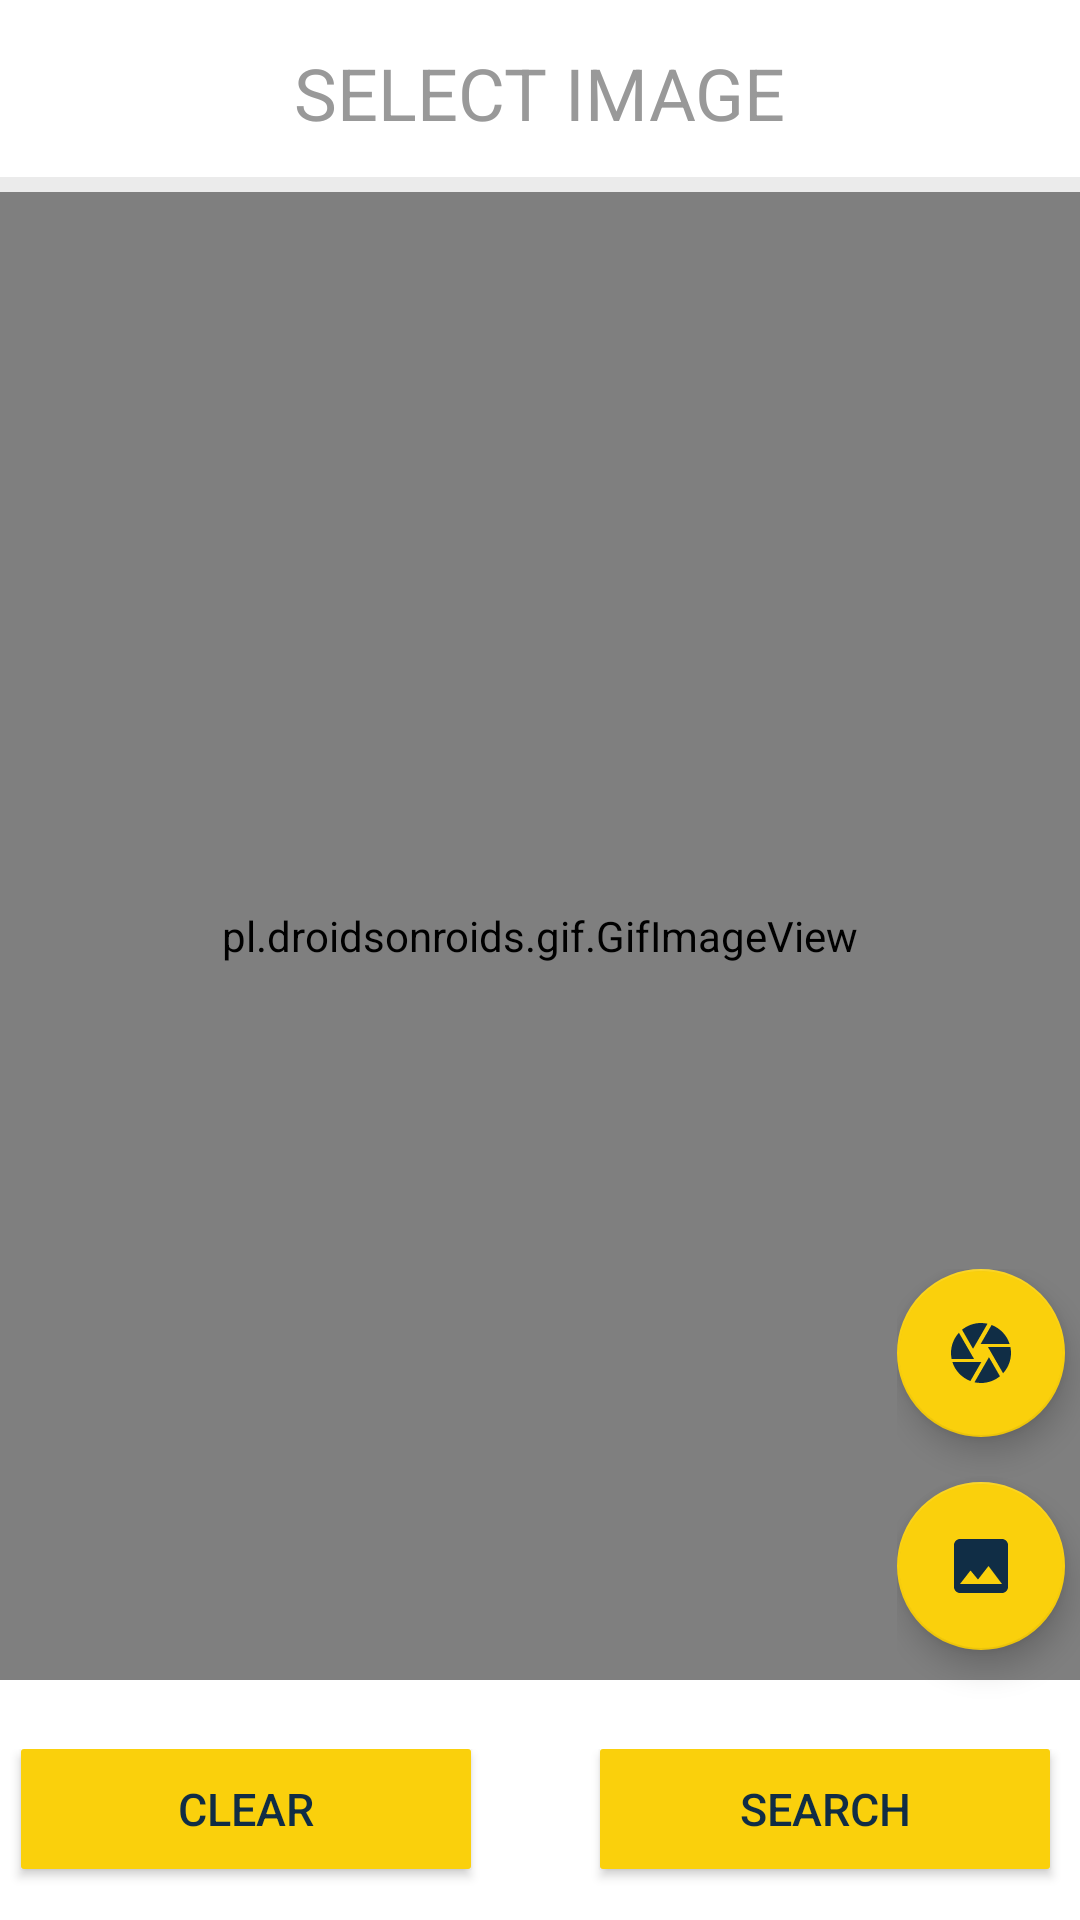

Where icons sit on this 1080w x 1920h app screen, as (x1, y1, x2, y2):
camera: (897, 1269, 1065, 1437)
photo: (897, 1482, 1065, 1650)
